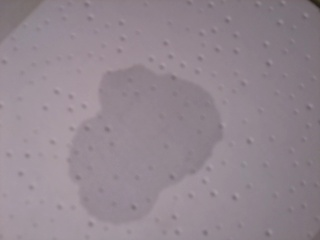Water_detected: (82, 82, 198, 206)
